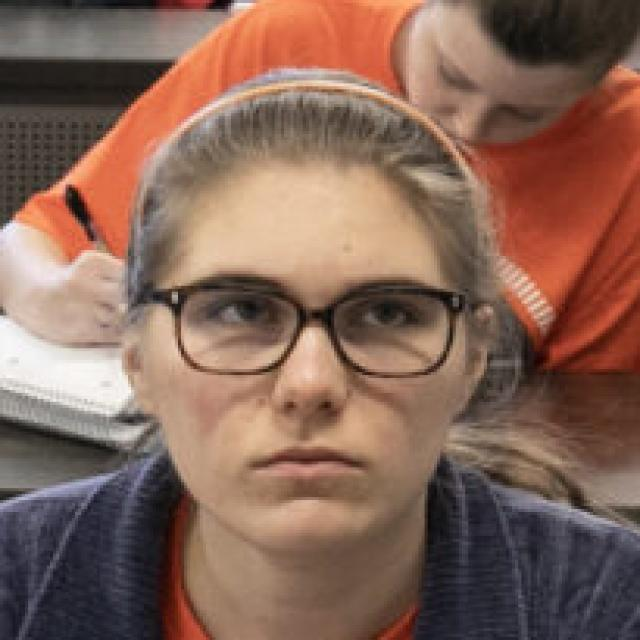Looking forward: (141, 165, 462, 550)
